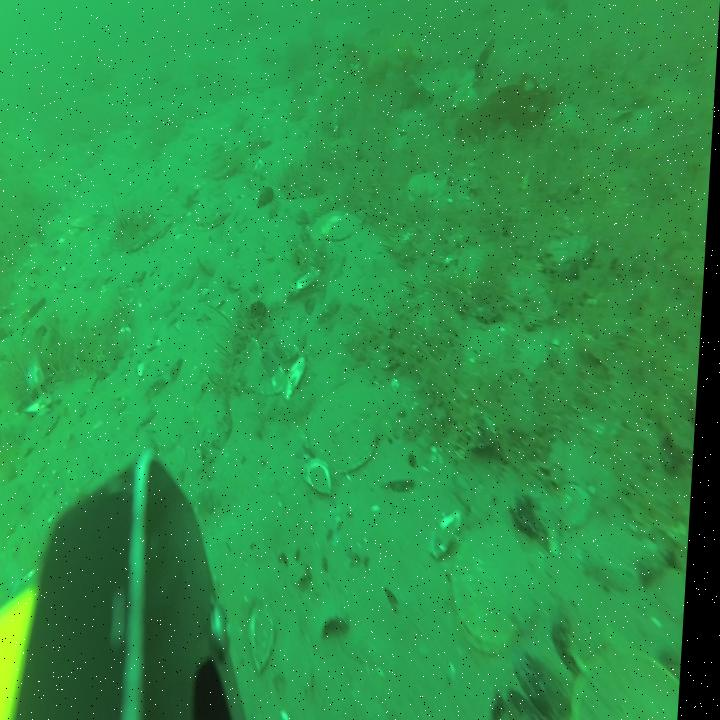scallop: (457, 523, 548, 657), (578, 643, 690, 720), (311, 382, 402, 474), (196, 195, 234, 231), (408, 172, 447, 205), (314, 208, 346, 236), (334, 214, 364, 242)
